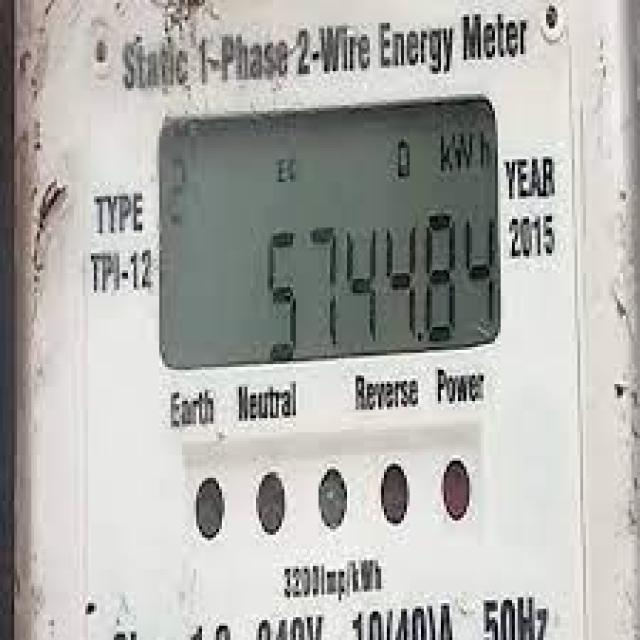.: (408, 329, 433, 351)
4: (377, 220, 423, 350), (340, 226, 386, 352), (451, 214, 495, 338)
5: (244, 224, 312, 360)
7: (300, 220, 352, 354)
8: (416, 208, 464, 344)
Digital meter: (161, 107, 499, 371)
